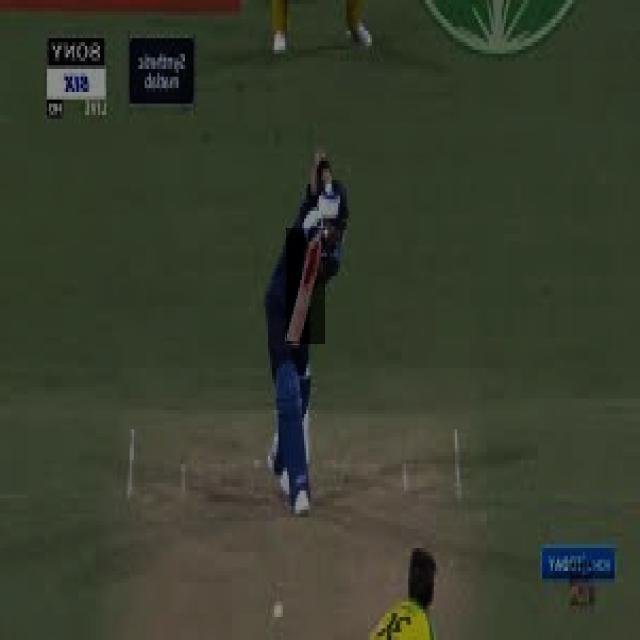bat: (281, 234, 326, 355)
toe: (275, 336, 309, 350)
